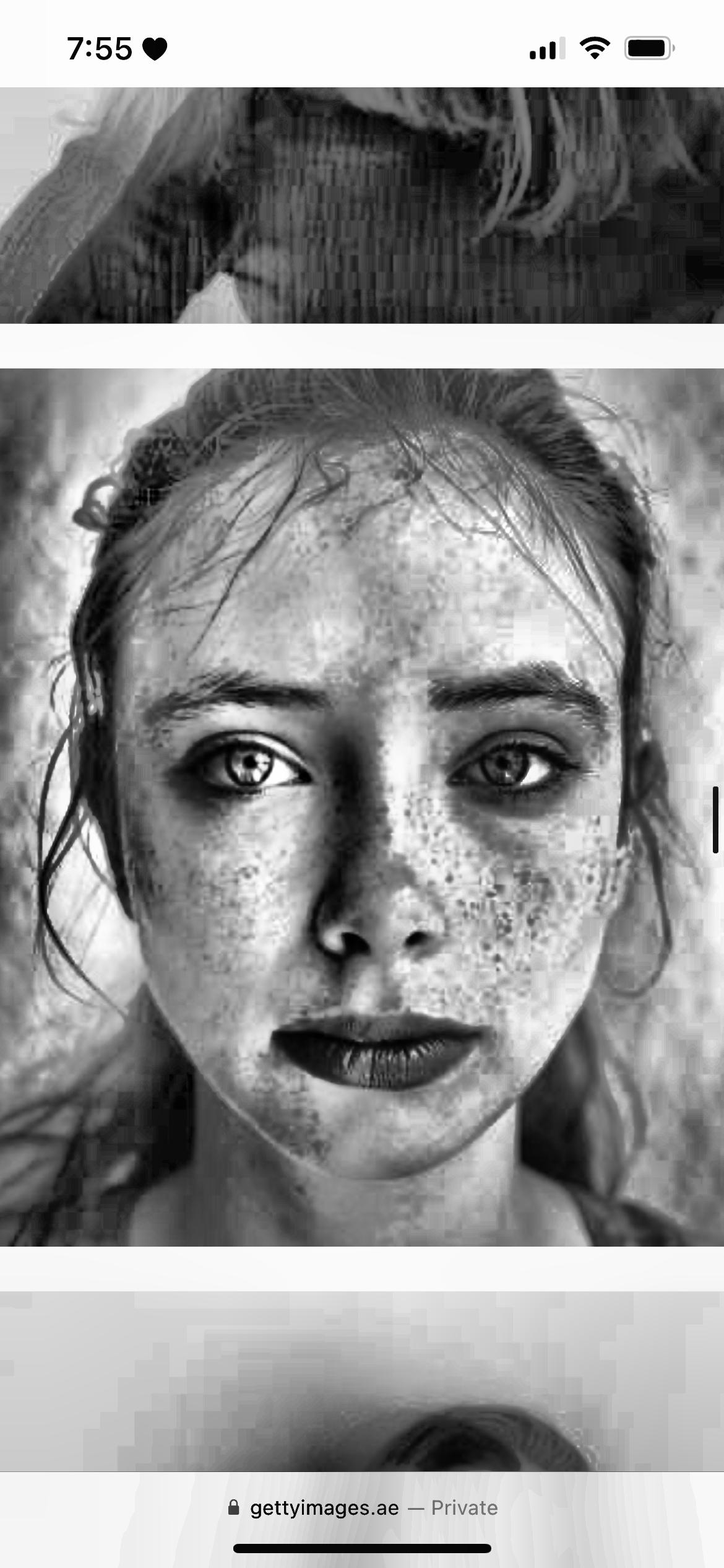sad: (159, 417, 617, 1186)
